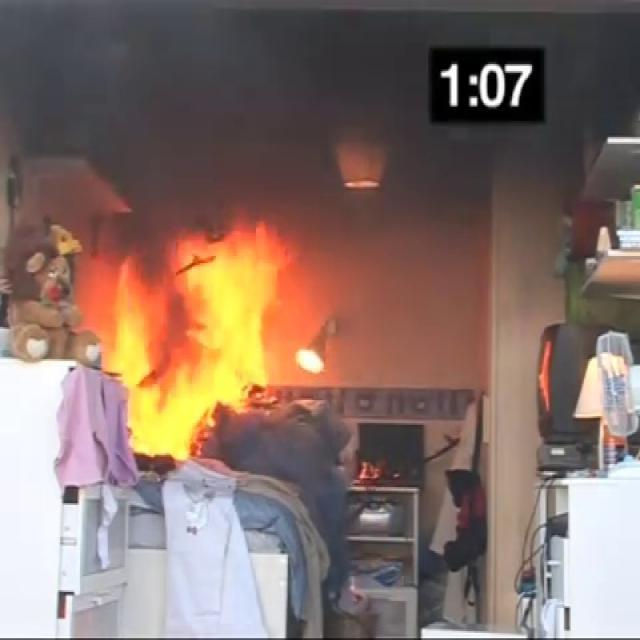Fire: (15, 217, 294, 460)
Smoke: (39, 0, 331, 186)
